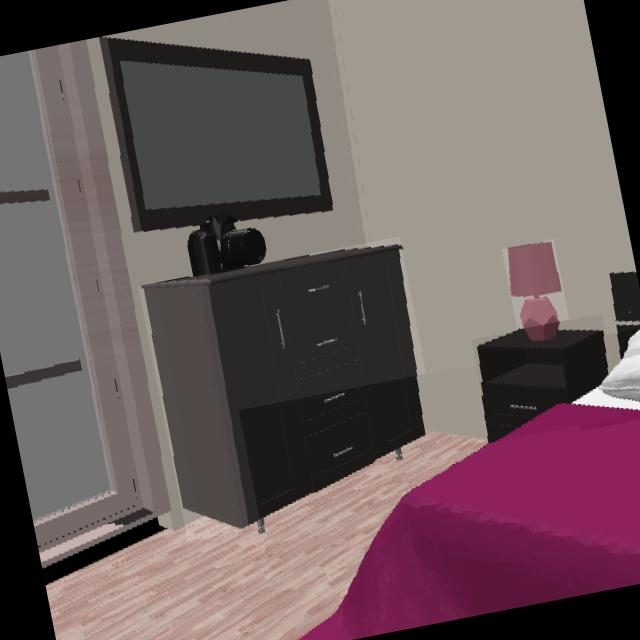bed: (302, 336, 640, 640)
cabinet: (142, 248, 428, 530)
lamp: (507, 245, 563, 343)
nighttable: (477, 329, 612, 443)
pillow: (576, 331, 640, 412)
